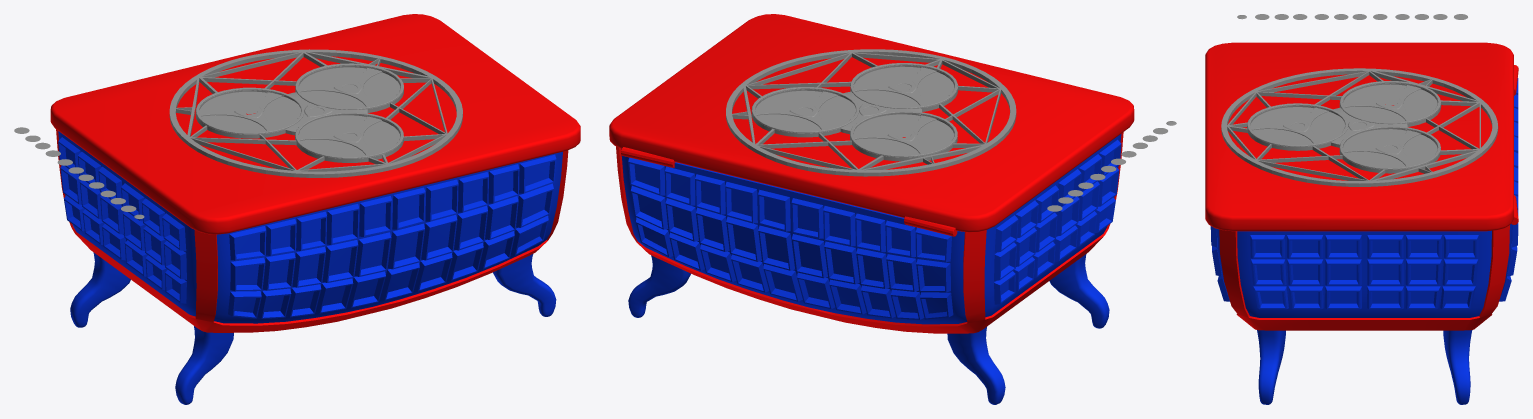
The model's file is Puzzle_Box.FBX.
3 renders of one model, left to right at view 1: azimuth 30°, elevation 25°; view 2: azimuth 150°, elevation 25°; view 3: azimuth 270°, elevation 25°, orthographic. The views are drawn at different scales.
Parts seen in each view (by area): view 1: Puzzle_Box, Puzzle_Box_Cover, Puzzle_Box_Iron_Frame, Outer_Rings, Puzzle_Box_Rotator_R, Puzzle_Box_Rotator_Lower, Puzzle_Box_Rotator_L, Puzzle_Slice_3, Puzzle_Slice_7, Puzzle_Slice_6, Puzzle_Slice_8, Puzzle_Slice_5 (+5 smaller); view 2: Puzzle_Box, Puzzle_Box_Cover, Puzzle_Box_Iron_Frame, Outer_Rings, Puzzle_Box_Rotator_R, Puzzle_Box_Rotator_Lower, Puzzle_Box_Rotator_L, Puzzle_Slice_7, Puzzle_Slice_5, Puzzle_Slice_2, Puzzle_Slice_4, Puzzle_Slice_1 (+5 smaller); view 3: Puzzle_Box_Cover, Puzzle_Box, Puzzle_Box_Iron_Frame, Outer_Rings, Puzzle_Box_Rotator_Lower, Puzzle_Box_Rotator_R, Puzzle_Box_Rotator_L, Puzzle_Slice_4, Puzzle_Slice_9, Puzzle_Slice_1, Puzzle_Slice_3, Puzzle_Slice_6 (+5 smaller).
Boxes of the visible parts, x1,y1,x2,y2 form: Puzzle_Box: (56,129,568,404); Puzzle_Box_Cover: (50,14,580,234); Puzzle_Box_Iron_Frame: (169,49,462,177); Outer_Rings: (196,63,403,158); Puzzle_Box_Rotator_R: (298,68,381,106); Puzzle_Box_Rotator_Lower: (298,116,381,155); Puzzle_Box_Rotator_L: (199,92,282,130); Puzzle_Slice_3: (299,115,366,134); Puzzle_Slice_7: (263,96,301,127); Puzzle_Slice_6: (300,67,366,85); Puzzle_Slice_8: (200,91,266,109); Puzzle_Slice_5: (363,72,400,103); Puzzle_Box: (616,132,1123,404); Puzzle_Box_Cover: (609,14,1134,232); Puzzle_Box_Iron_Frame: (726,49,1016,176); Outer_Rings: (751,63,957,157); Puzzle_Box_Rotator_R: (755,91,838,129); Puzzle_Box_Rotator_Lower: (853,67,936,105); Puzzle_Box_Rotator_L: (853,115,936,153); Puzzle_Slice_7: (854,114,920,133); Puzzle_Slice_5: (756,90,822,109); Puzzle_Slice_2: (855,66,920,85); Puzzle_Slice_4: (819,95,855,126); Puzzle_Slice_1: (917,72,954,102); Puzzle_Box_Cover: (1205,42,1513,231); Puzzle_Box: (1210,65,1518,404); Puzzle_Box_Iron_Frame: (1221,68,1498,186); Outer_Rings: (1247,81,1440,169); Puzzle_Box_Rotator_Lower: (1250,107,1328,143); Puzzle_Box_Rotator_R: (1343,130,1420,166); Puzzle_Box_Rotator_L: (1343,85,1420,120); Puzzle_Slice_4: (1344,129,1406,146); Puzzle_Slice_9: (1344,84,1406,101); Puzzle_Slice_1: (1251,107,1313,124); Puzzle_Slice_3: (1310,111,1345,140); Puzzle_Slice_6: (1403,134,1437,163).
Bounding box in the file's own units: 193 × 128 × 89.4.
